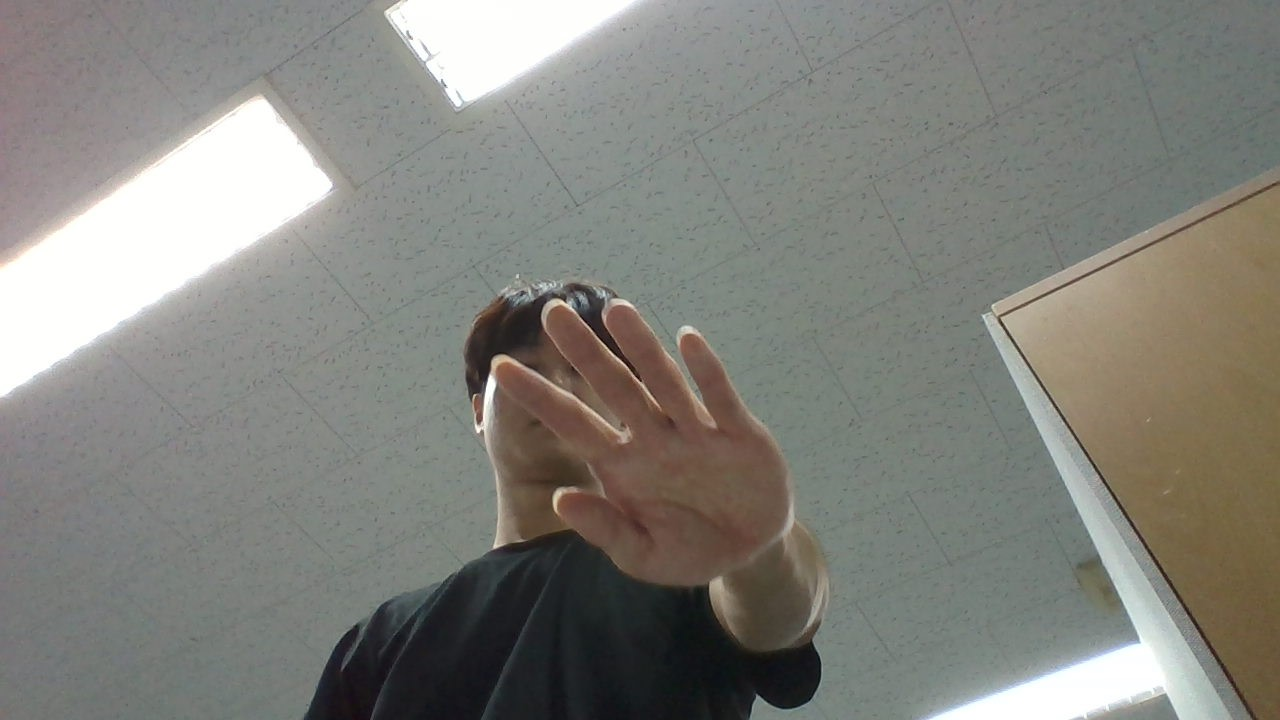Non-Helmet: (450, 261, 679, 506)
